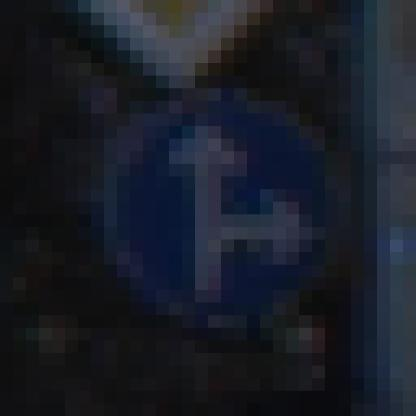Straight or Right: (79, 77, 352, 354)
